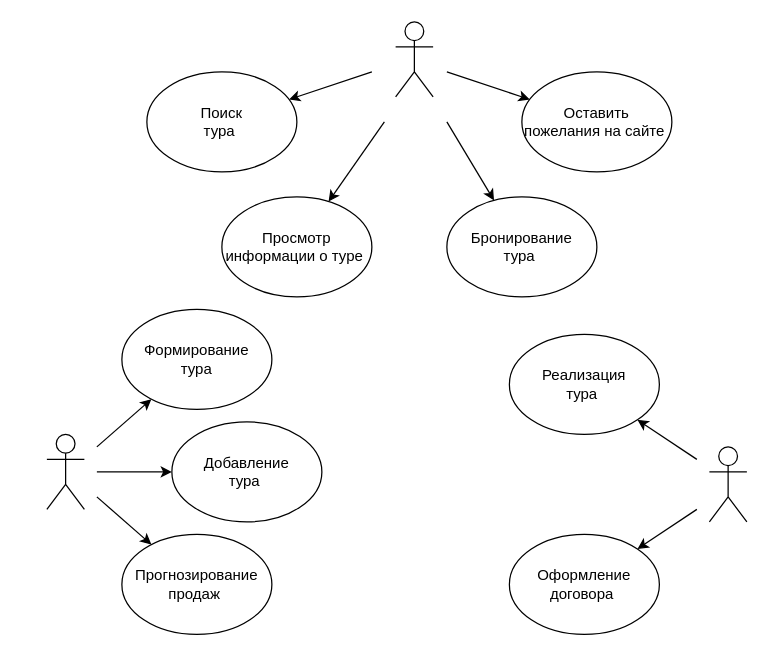
The diagram is 780 pixels wide and 656 high, and some of its shapes have lost their labels. The shapes that lost their labels are listed below. From the top down, each one's centre as x and y in pixels, then its label:
At point (413, 59): "Клиент".
At point (65, 471): "Туроператор".
At point (727, 484): "Турагент".
